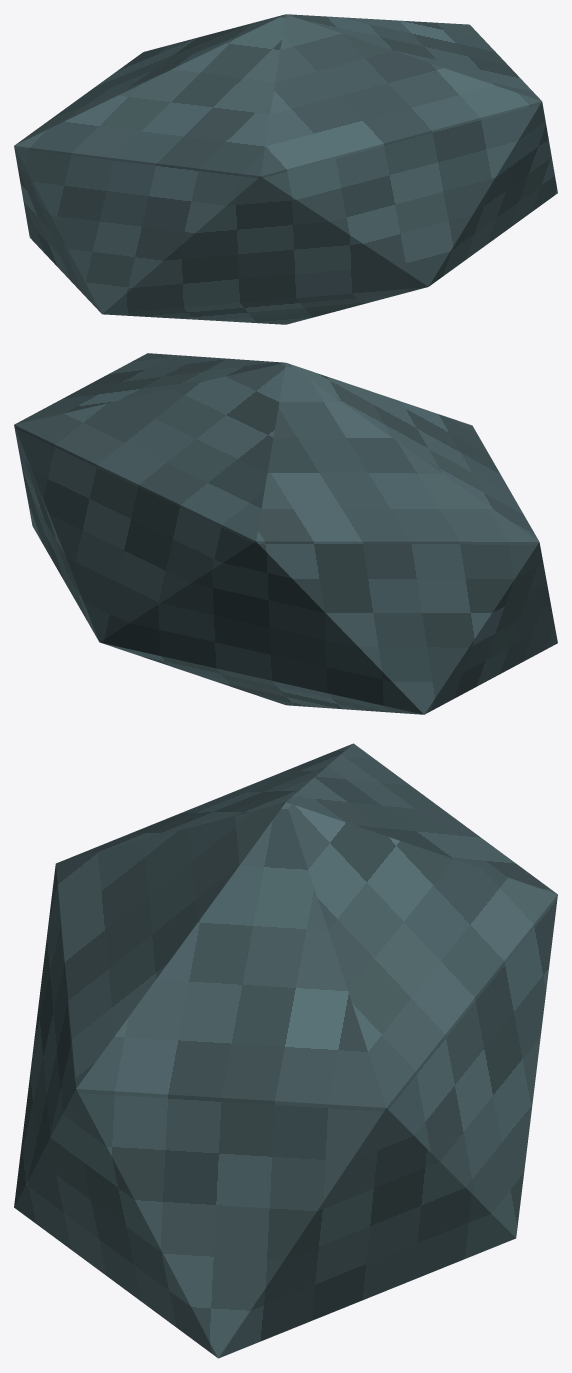
Rendered from rock_60.glb.
3 views of the same model, one above another, from view 1: azimuth 30°, elevation 25°; view 2: azimuth 150°, elevation 25°; view 3: azimuth 270°, elevation 25° (orthographic). The views are drawn at different scales.
Parts seen in each view (by area): view 1: WeatheredStone; view 2: WeatheredStone; view 3: WeatheredStone.
Part boxes in pixels (x1,y1,x2,y2): WeatheredStone: (14, 14, 557, 324); WeatheredStone: (14, 353, 557, 714); WeatheredStone: (14, 743, 557, 1358).
Size of the model in its own units: 2.28 by 1.35 by 1.33.
1 material, 1 textured.
